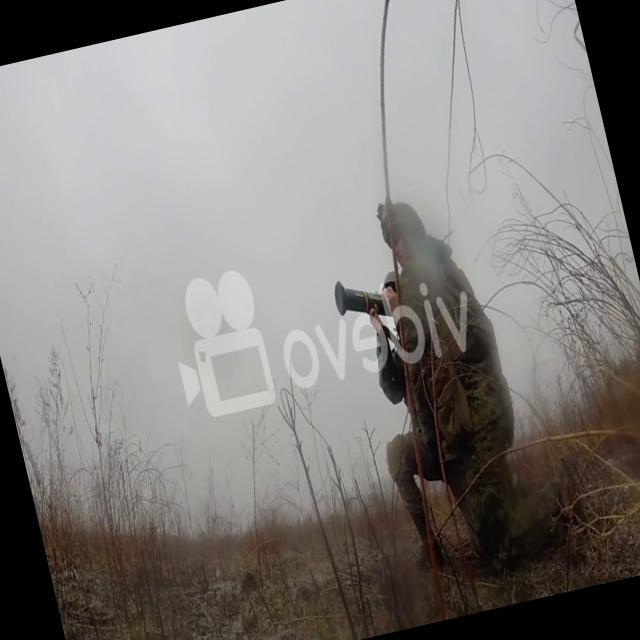rocket: (331, 268, 400, 340)
